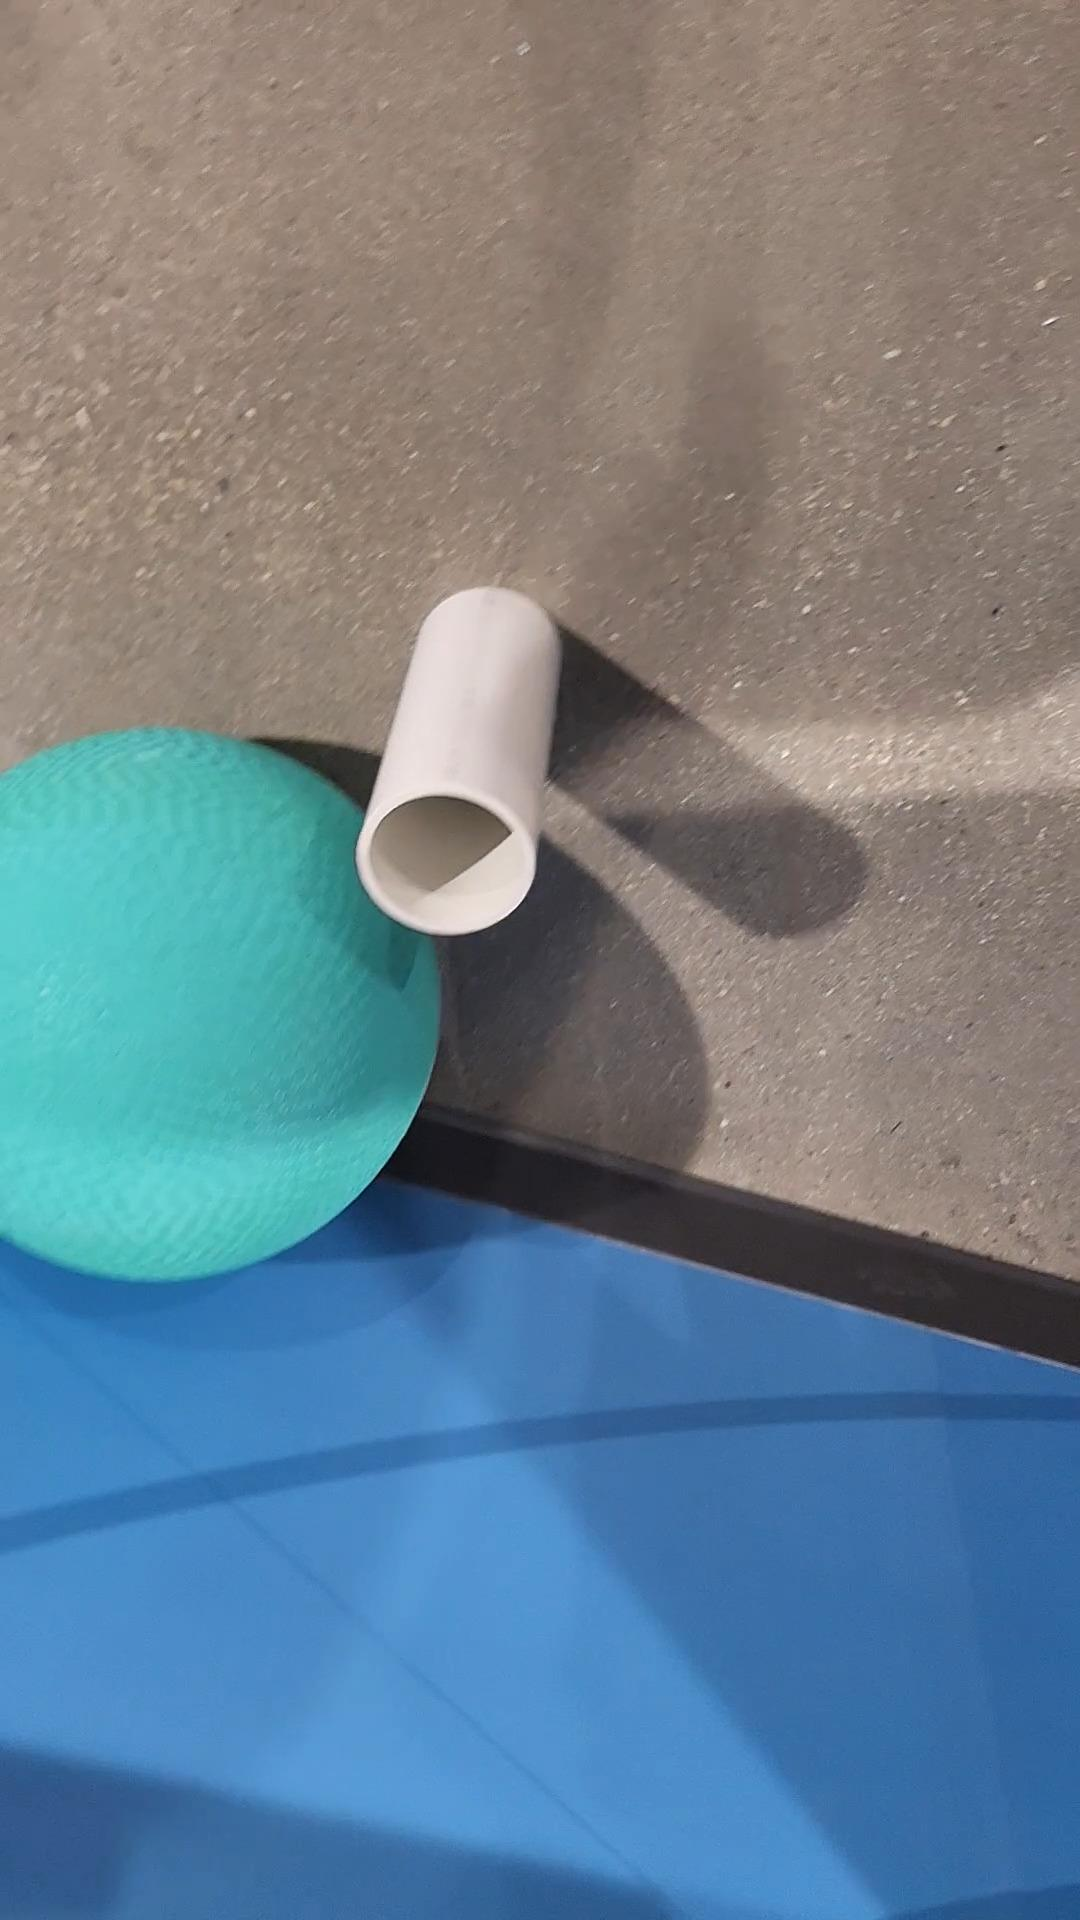algae: (0, 732, 438, 1280)
coral: (353, 587, 560, 935)
